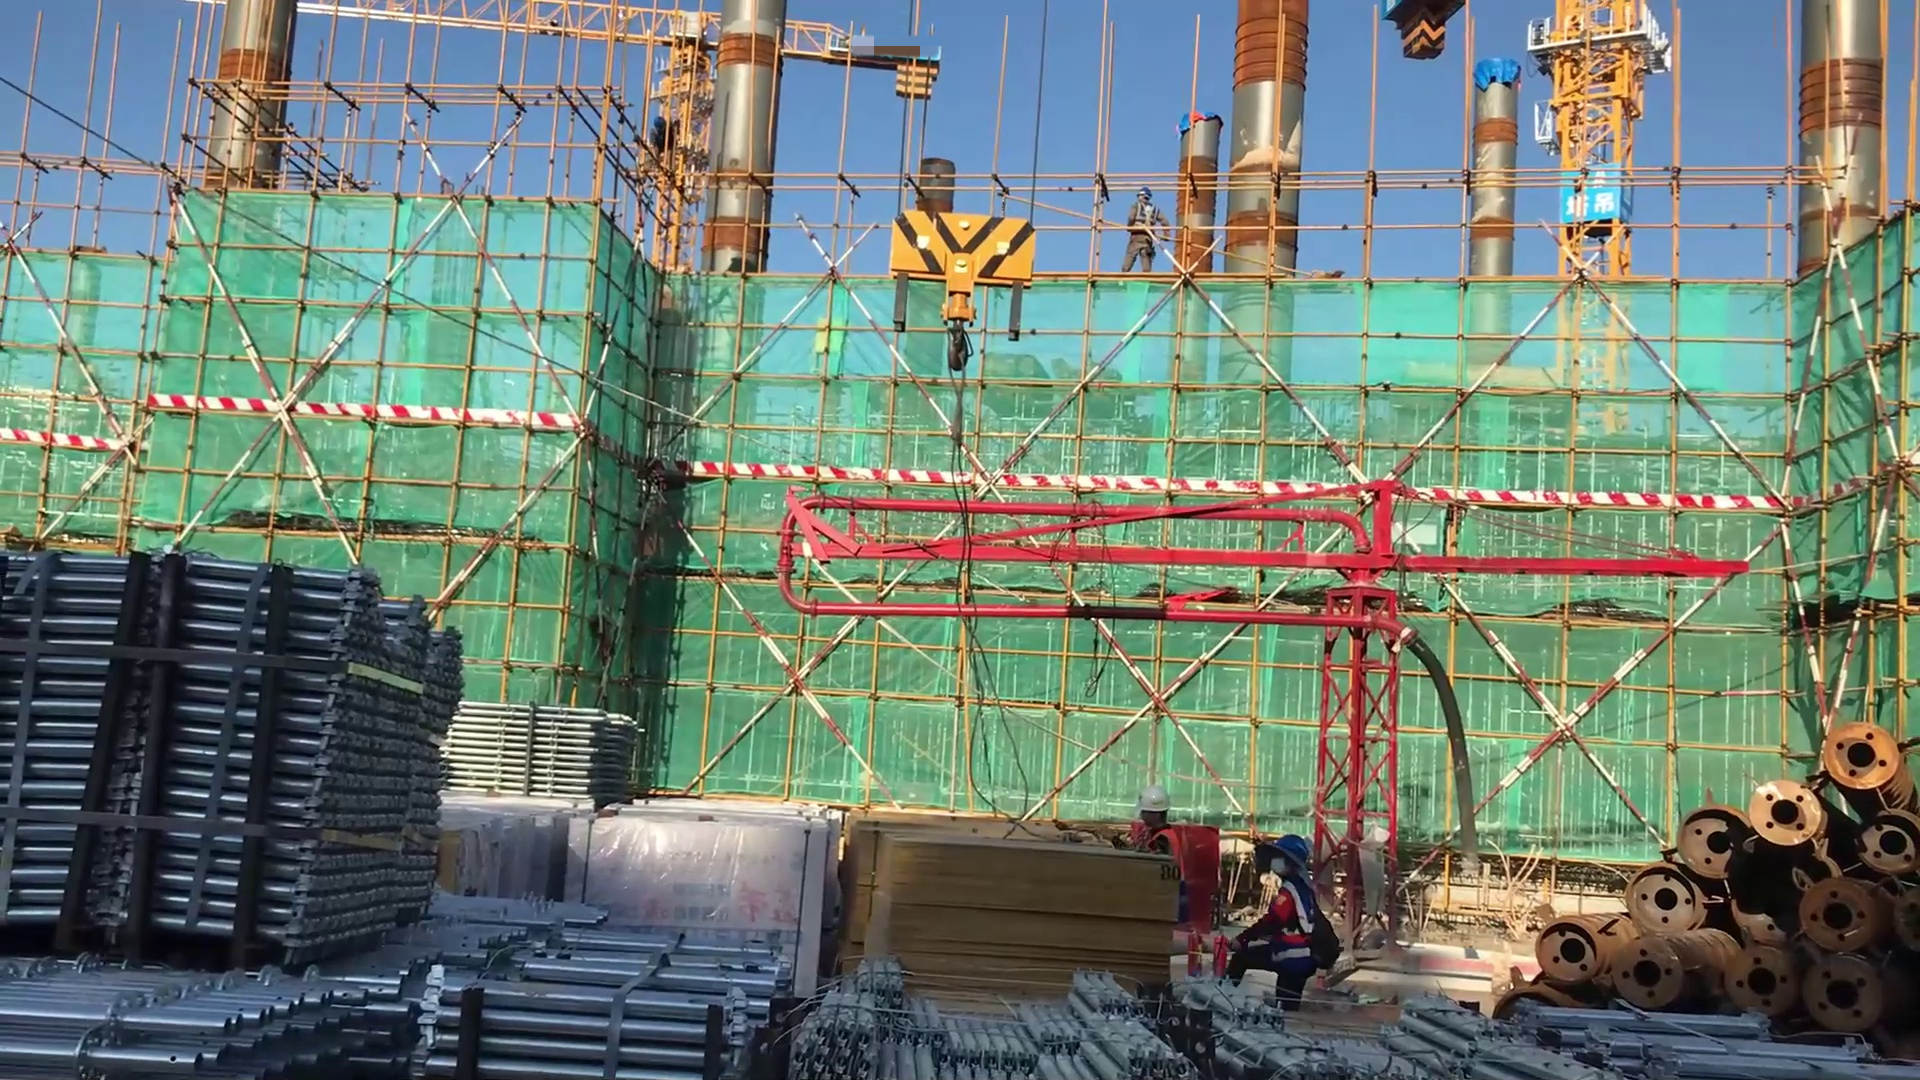board: (838, 815, 1176, 1011)
helmet: (1265, 836, 1318, 883), (1134, 784, 1175, 818), (1130, 179, 1155, 202)
hook: (868, 205, 1051, 423)
person: (1215, 826, 1341, 1015), (1134, 782, 1196, 954), (1106, 187, 1175, 282)
scaffold: (1, 551, 484, 936), (411, 891, 813, 1076), (1, 926, 448, 1073), (801, 951, 1201, 1080), (1201, 982, 1564, 1080), (1541, 992, 1883, 1080), (436, 699, 644, 802)
slogan: (1566, 167, 1625, 231)
vest: (1264, 877, 1323, 970), (1144, 825, 1196, 921), (1136, 199, 1161, 239)
